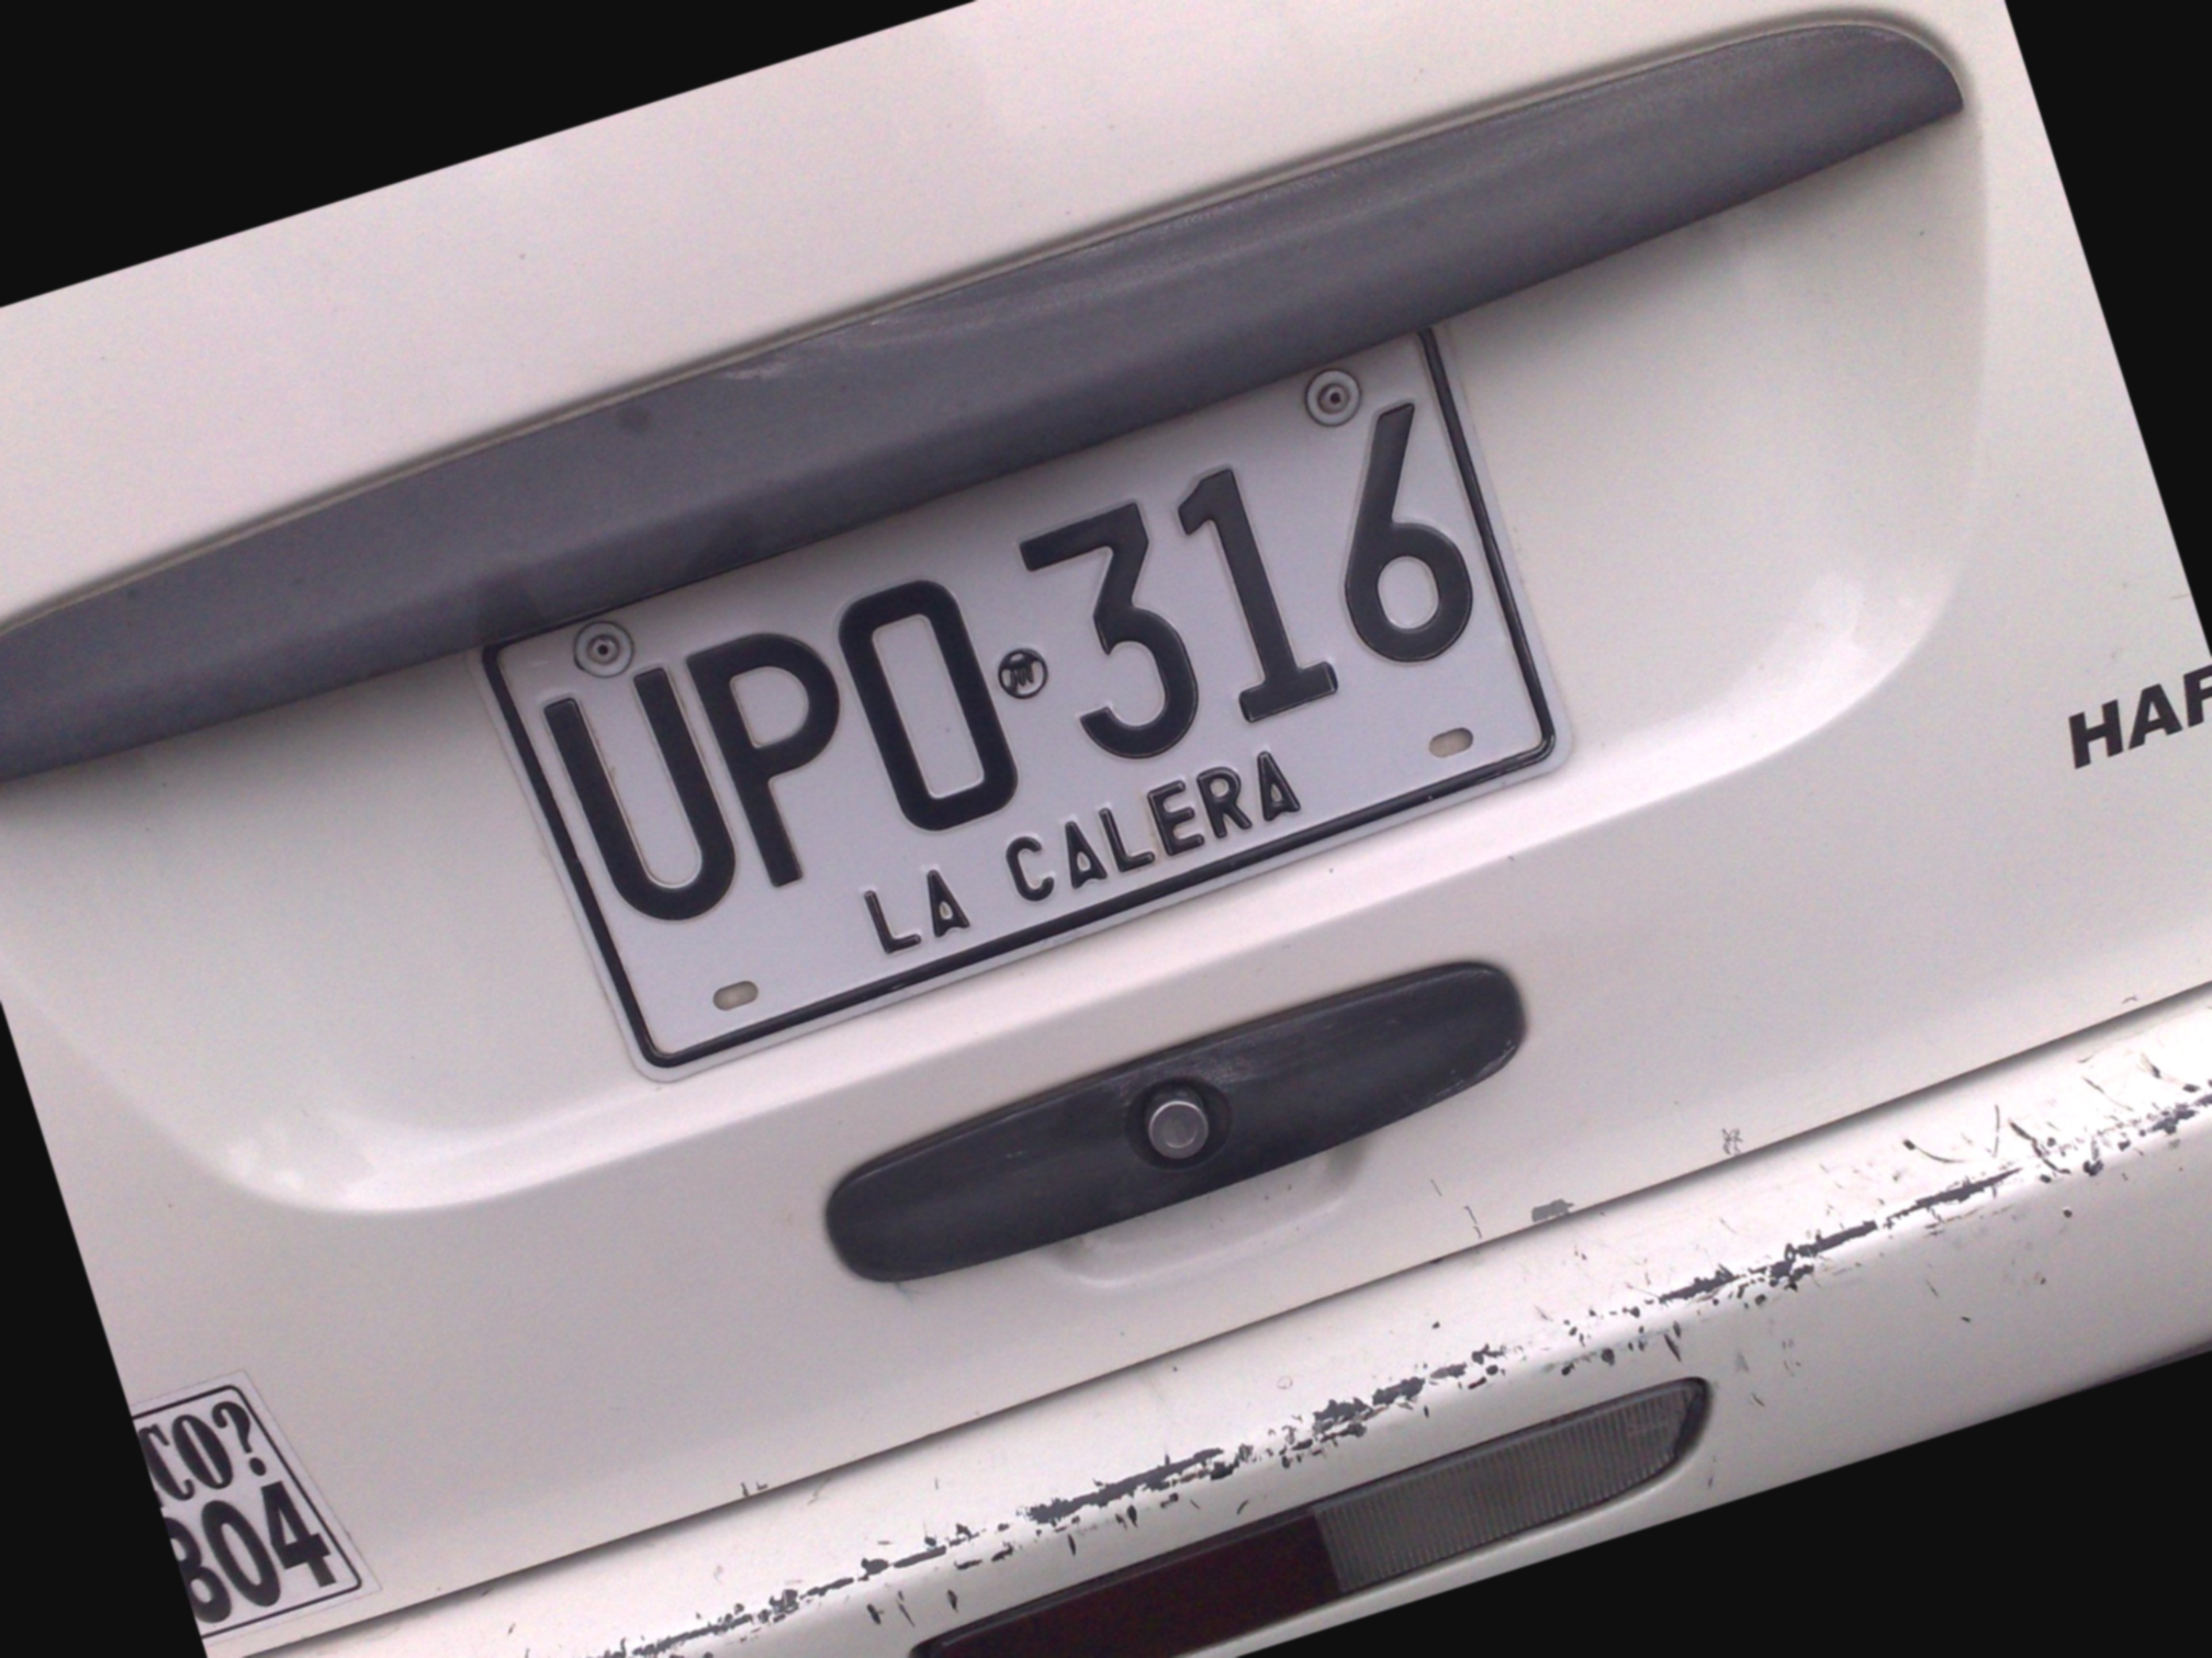placas: (438, 278, 1612, 1124)
